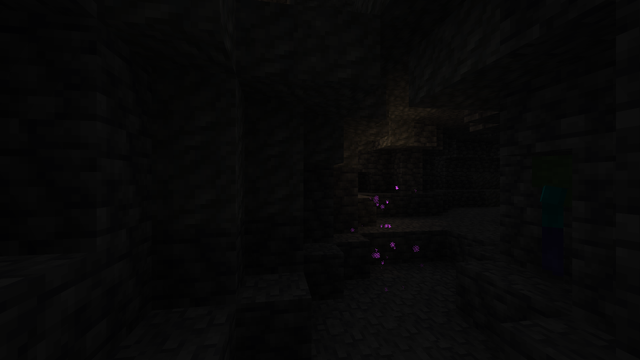zombies: (519, 158, 569, 287)
